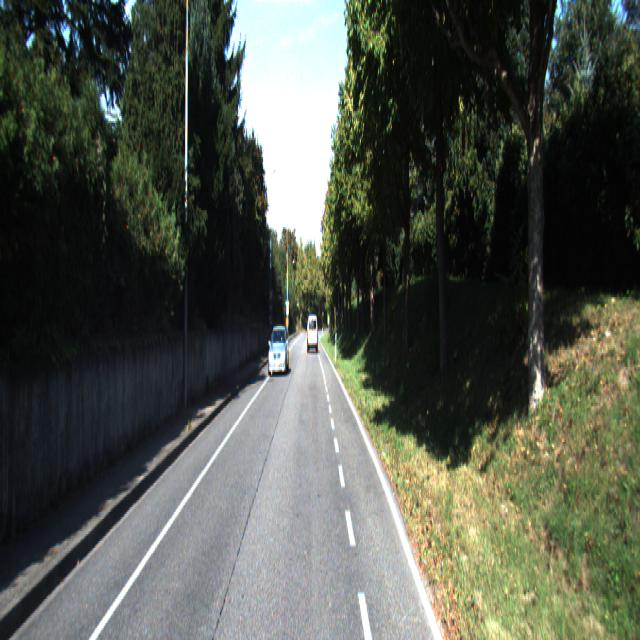Car: (268, 324, 289, 377), (307, 313, 319, 354)
